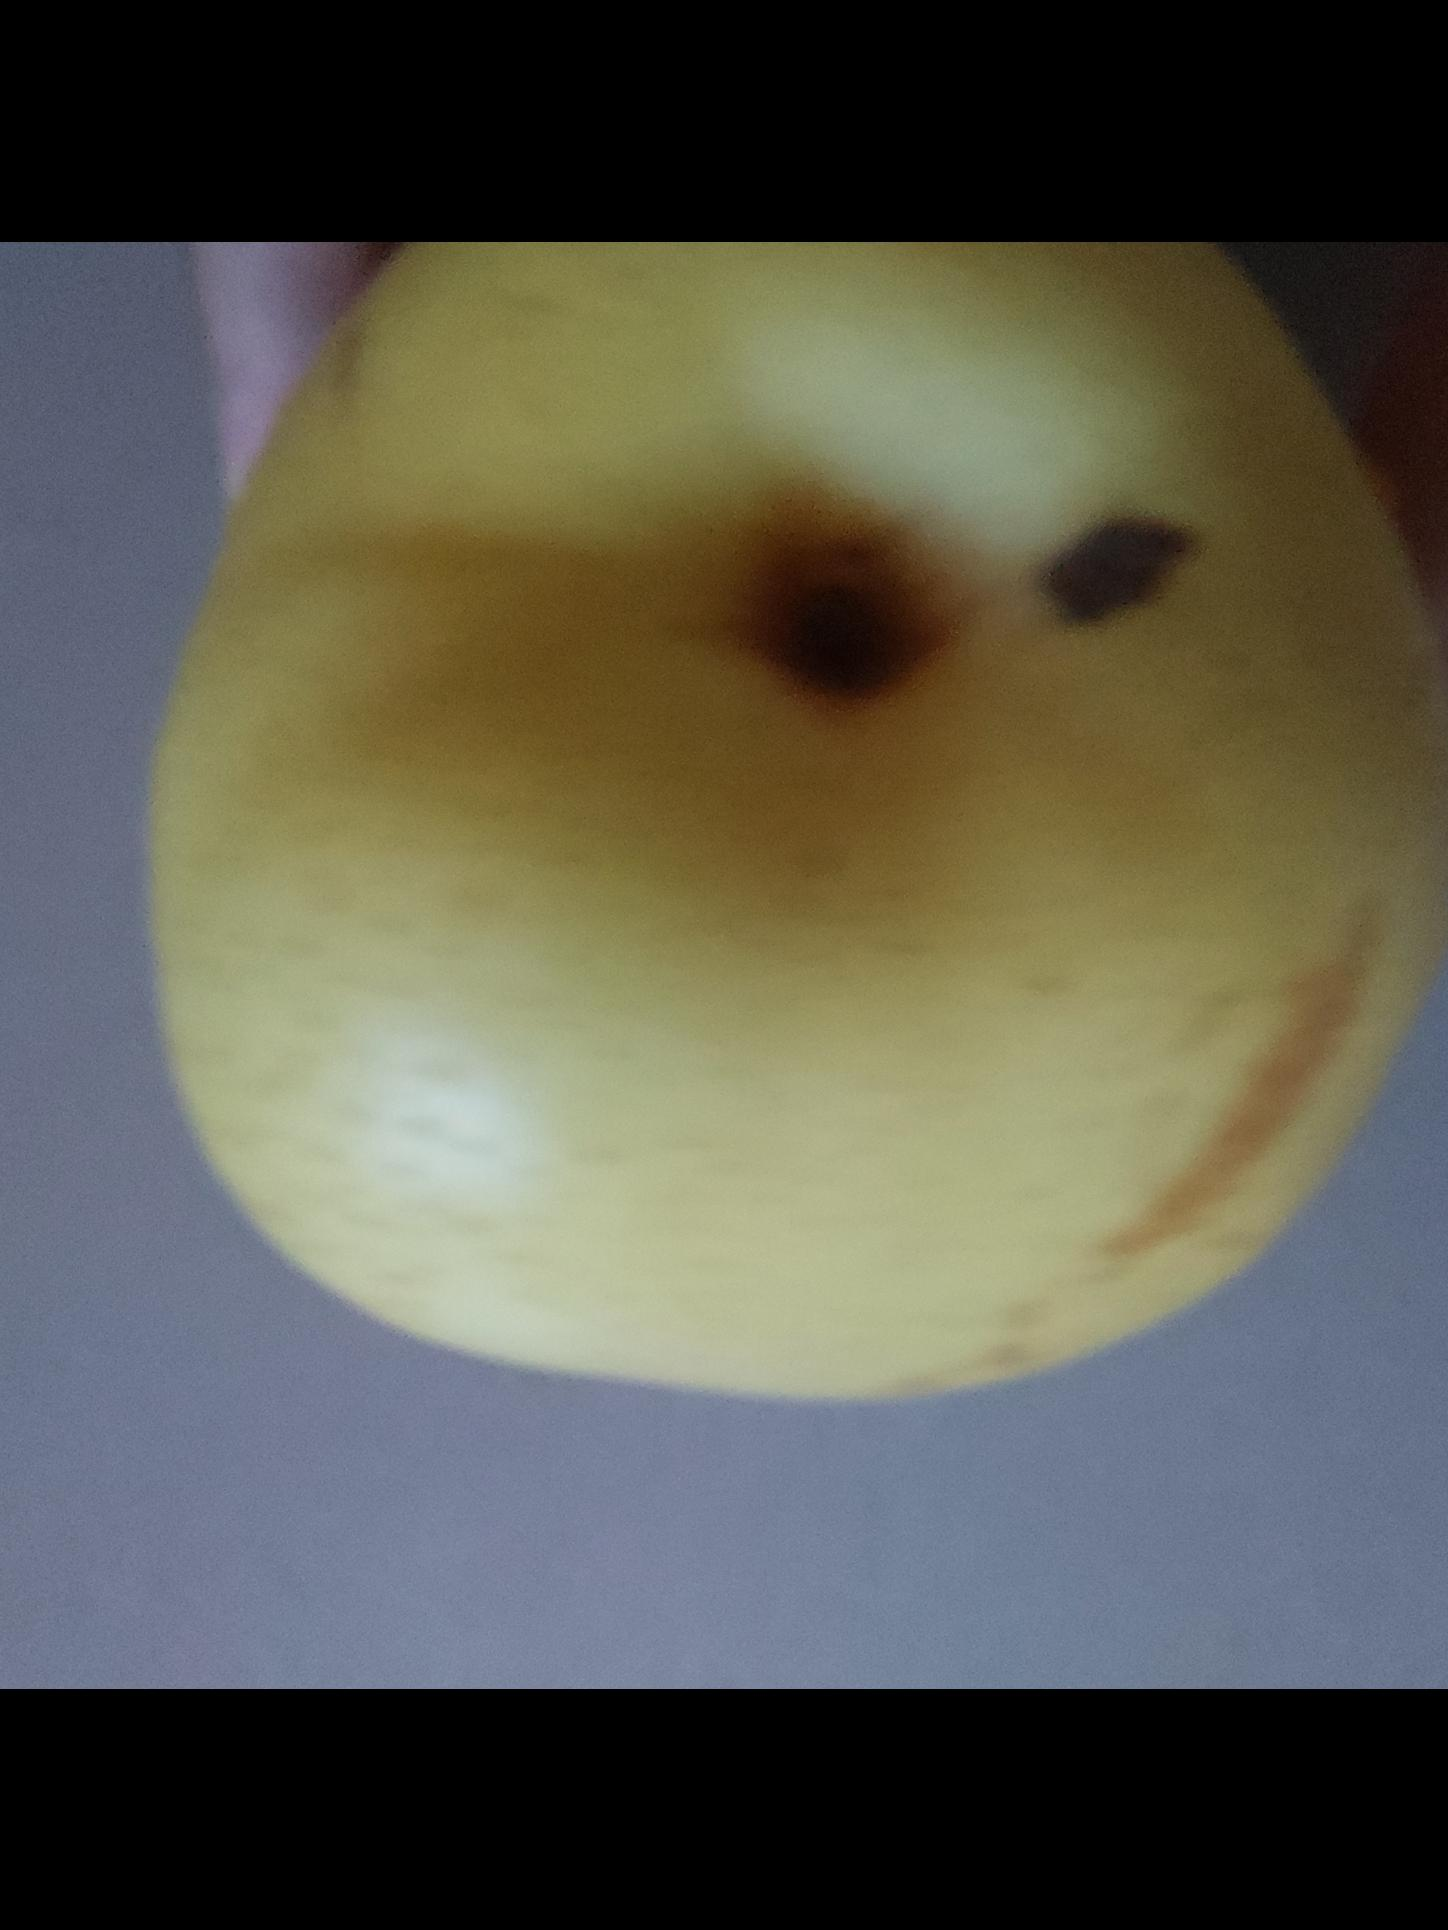Good Pear: (141, 240, 1448, 1424)
